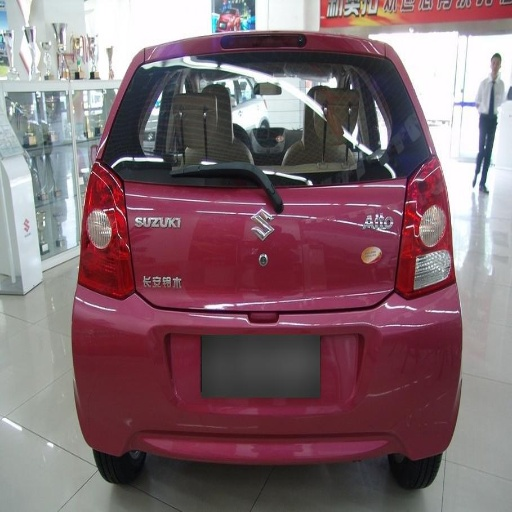back_bumper: (69, 286, 259, 457), (353, 276, 465, 444)
back_right_light: (403, 179, 454, 294)
trunk: (123, 166, 410, 394)
